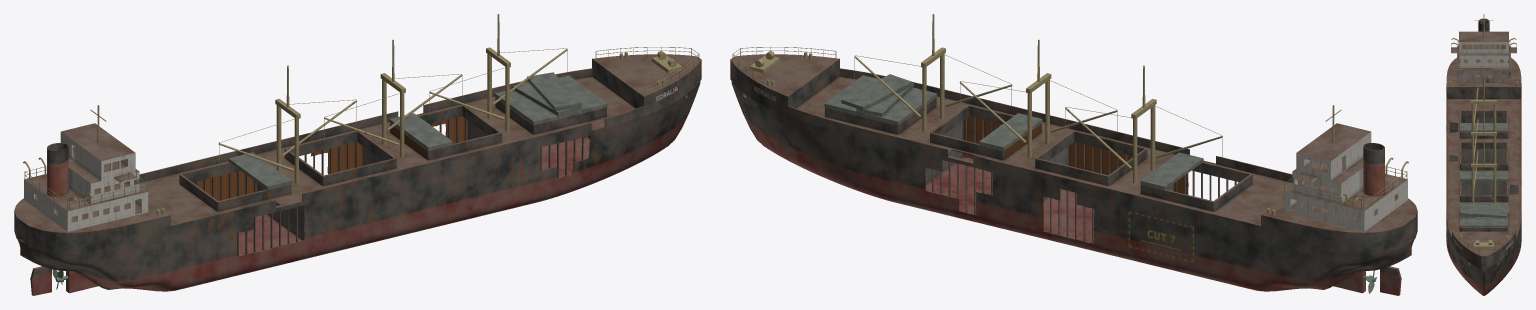
The model's file is CargoShip.glb.
The picture shows the model from 3 angles, left to right: view 1: azimuth 30°, elevation 25°; view 2: azimuth 150°, elevation 25°; view 3: azimuth 270°, elevation 25°; orthographic projection. The views are drawn at different scales.
Parts seen in each view (by area): view 1: Ship_Hull, Ship_Deck, Ship_Superstructure; view 2: Ship_Hull, Ship_Deck, Ship_Superstructure; view 3: Ship_Hull, Ship_Deck, Ship_Superstructure.
Part boxes in pixels (x1,y1,x2,y2): Ship_Hull: (14,54,701,295); Ship_Deck: (52,14,699,289); Ship_Superstructure: (23,105,148,231); Ship_Hull: (730,54,1417,295); Ship_Deck: (732,14,1376,293); Ship_Superstructure: (1283,105,1408,231); Ship_Hull: (1446,58,1521,295); Ship_Deck: (1449,75,1518,254); Ship_Superstructure: (1451,14,1516,82).
Bounding box in the file's own units: 96.62 × 24.4 × 15.01.
Materials: 3 (3 with a texture image).
